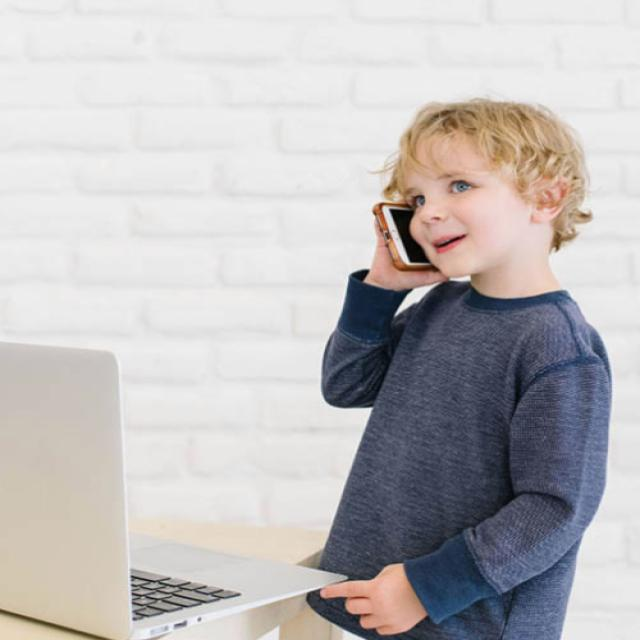child: (314, 96, 612, 640)
